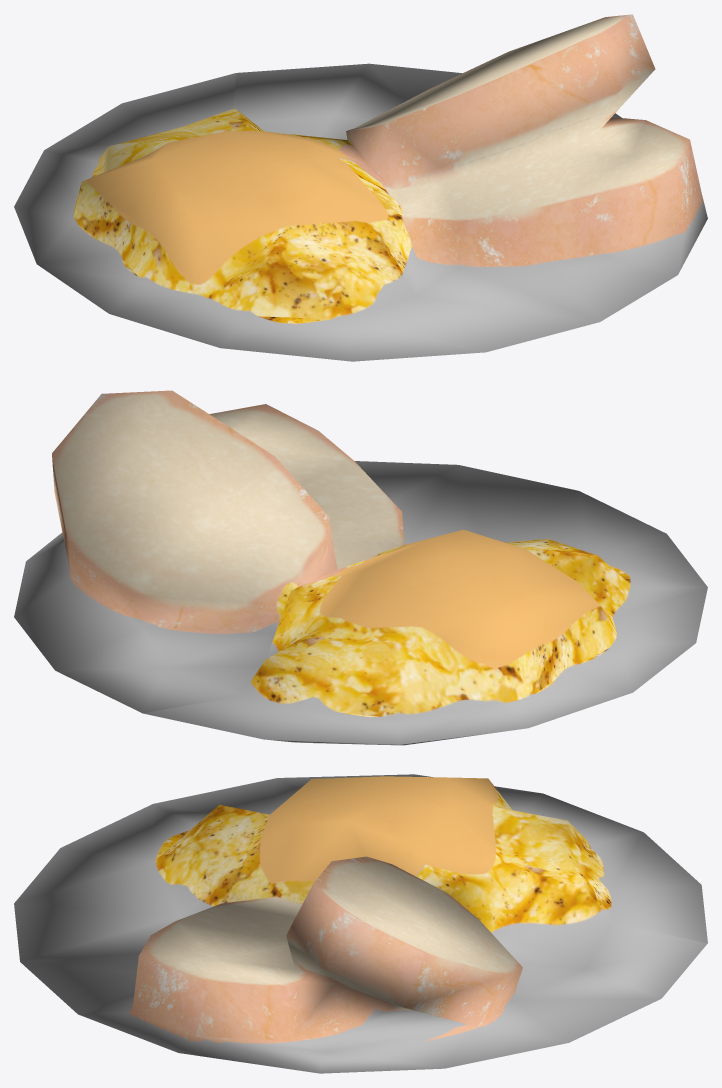
File: Egg.fbx
3 renders of one model, top to bottom at view 1: azimuth 30°, elevation 25°; view 2: azimuth 150°, elevation 25°; view 3: azimuth 270°, elevation 25°, orthographic.
Parts seen in each view (by area): view 1: EggShell; view 2: EggShell; view 3: EggShell.
Boxes of the visible parts, x1,y1,x2,y2 form: EggShell: [14, 14, 707, 361]; EggShell: [14, 390, 707, 745]; EggShell: [14, 774, 707, 1073].
Size of the model in its own units: 3.47 by 1.08 by 3.45.
1 material, 1 textured.
